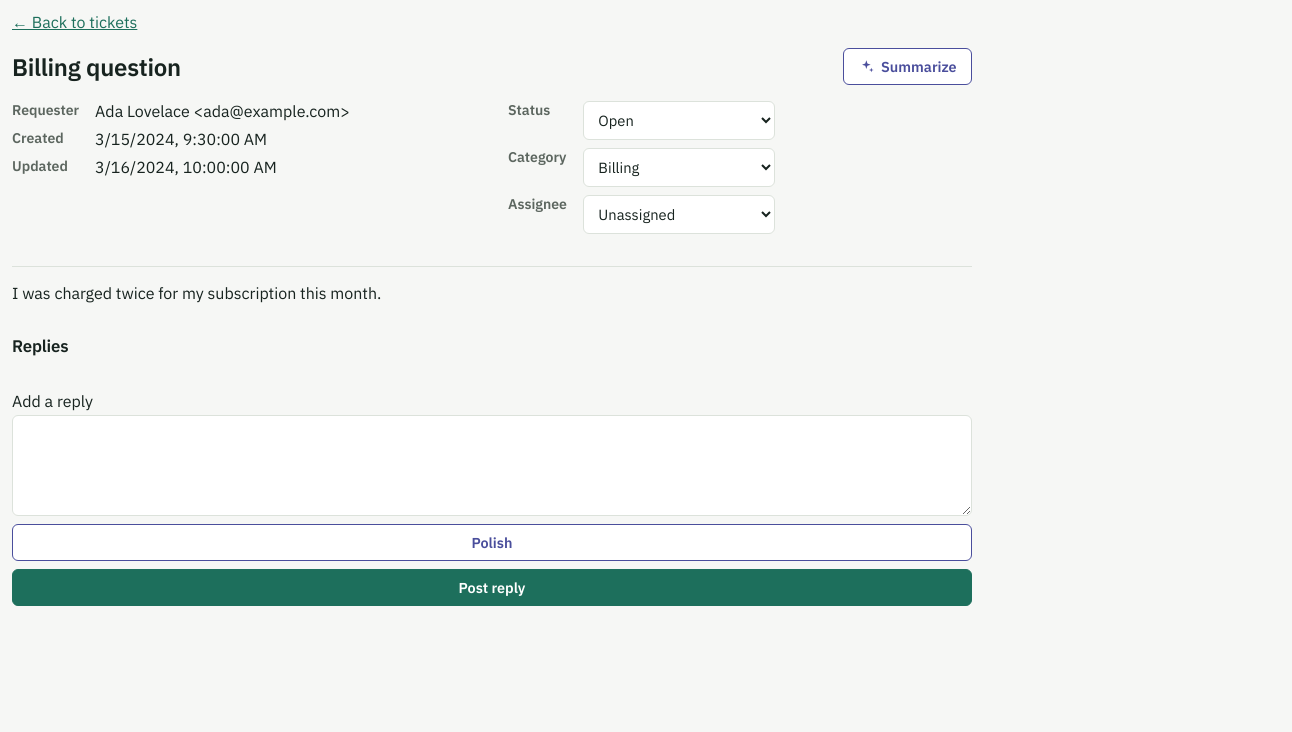
Test: shows the status error message when the status update fails
Check: the heading "Billing question" is shown, box [12,50,181,82]
Select "Resolved" in the dropdown named "Status" at (679, 120), box [583,101,775,140]
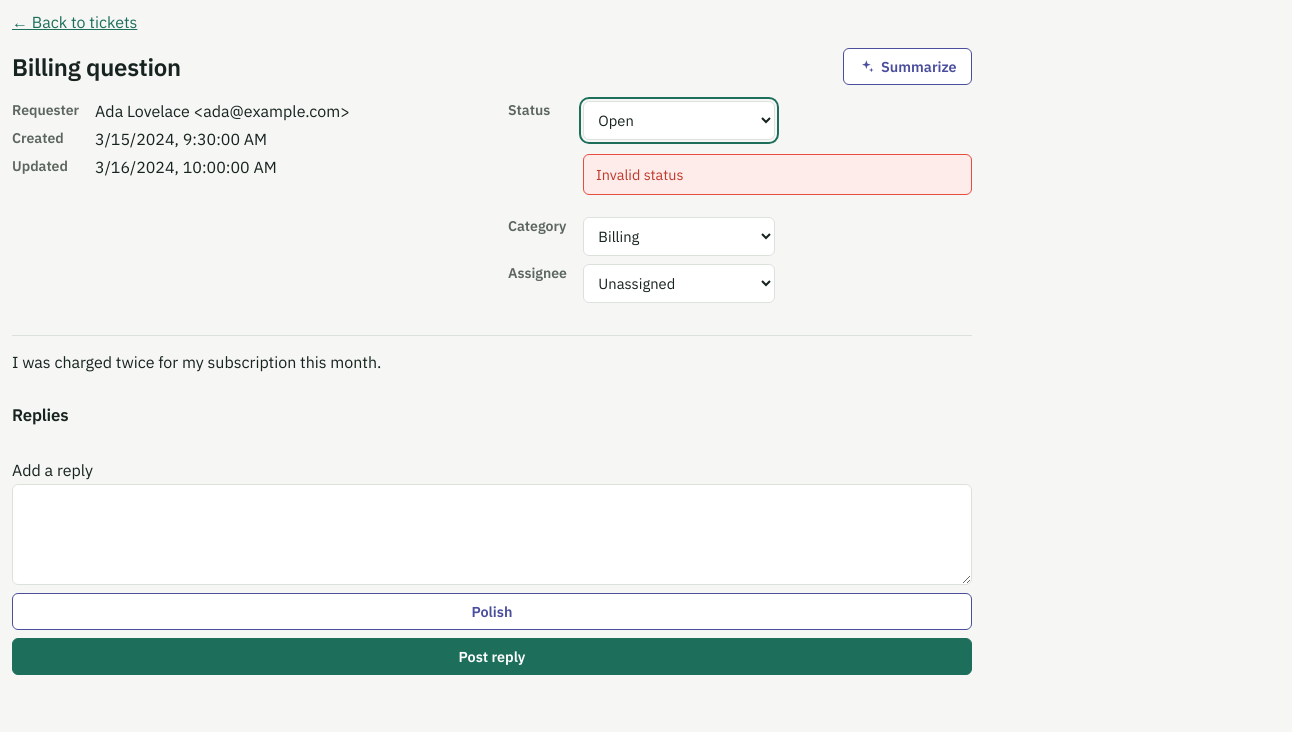
Check: the text "Invalid status" is shown, box [583,154,972,195]
